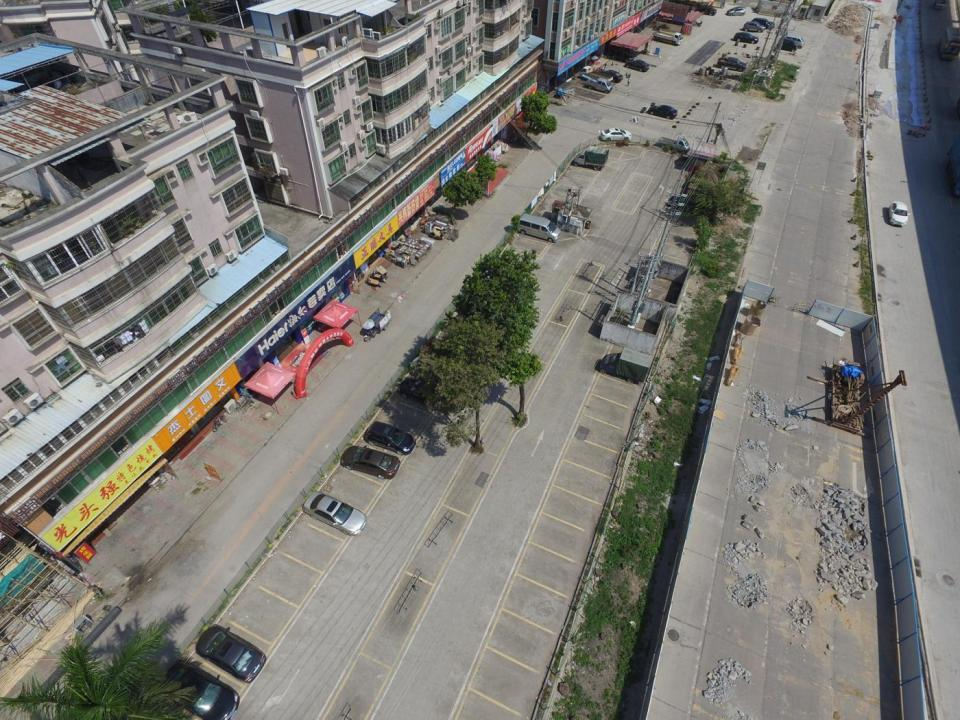bus: (939, 27, 959, 59)
car: (164, 661, 239, 719), (194, 624, 266, 682), (302, 490, 367, 534), (340, 444, 402, 478), (364, 421, 416, 455), (887, 201, 911, 227), (601, 128, 631, 144), (647, 105, 676, 120), (625, 59, 647, 73), (733, 32, 758, 44), (719, 57, 746, 68), (751, 18, 774, 29), (602, 70, 623, 82), (744, 21, 764, 32), (697, 5, 716, 16), (728, 7, 746, 16)
van: (599, 347, 653, 384), (517, 212, 562, 241), (573, 146, 609, 171), (657, 134, 690, 155), (580, 66, 614, 84), (652, 29, 683, 45), (583, 77, 611, 92), (778, 37, 798, 52), (785, 36, 804, 49)
